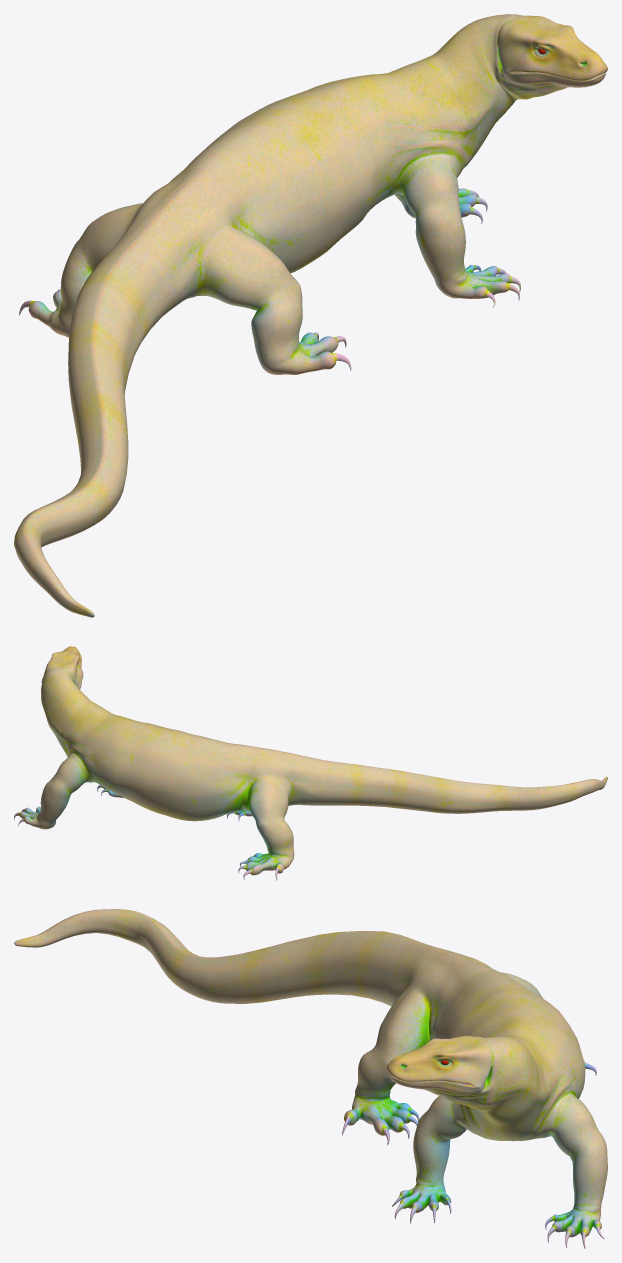
File: Komododragon.glb
3 views of the same model, one above another, from view 1: azimuth 30°, elevation 25°; view 2: azimuth 150°, elevation 25°; view 3: azimuth 270°, elevation 25° (orthographic). The views are drawn at different scales.
Visible parts, largest first — view 1: komodo_dragon.1; view 2: komodo_dragon.1; view 3: komodo_dragon.1.
Boxes of the visible parts, box(x1,y1,x2,y2) form: komodo_dragon.1: box(14, 14, 607, 617); komodo_dragon.1: box(14, 646, 607, 880); komodo_dragon.1: box(14, 909, 607, 1248).
Bounding box in the file's own units: 1.12 × 0.3303 × 0.8827.
Materials: 1 (1 with a texture image).
